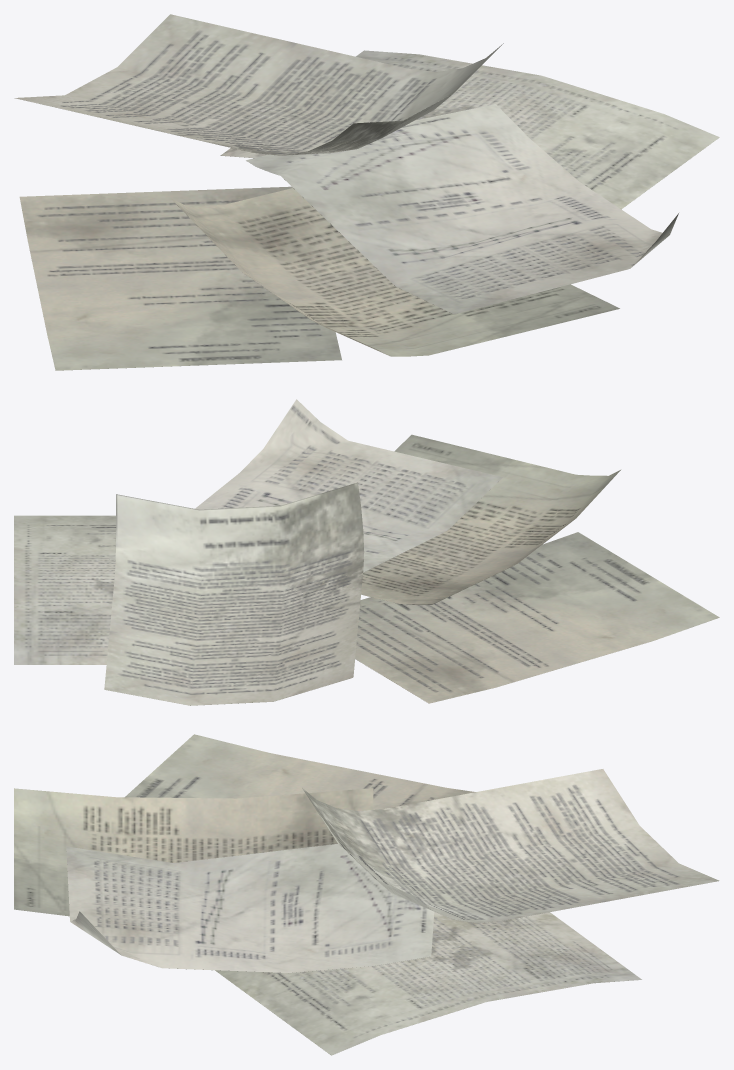
Rendered from Bunch_of_Papers_C.FBX.
3 renders of one model, top to bottom at view 1: azimuth 30°, elevation 25°; view 2: azimuth 150°, elevation 25°; view 3: azimuth 270°, elevation 25°, orthographic. The views are drawn at different scales.
Visible parts, largest first — view 1: Bunch_of_Papers_C; view 2: Bunch_of_Papers_C; view 3: Bunch_of_Papers_C.
Boxes of the visible parts, <box> form: Bunch_of_Papers_C: <box>14,14,719,370</box>; Bunch_of_Papers_C: <box>14,399,719,705</box>; Bunch_of_Papers_C: <box>14,734,719,1055</box>.
Bounding box in the file's own units: 36.84 × 5.69 × 34.7.
